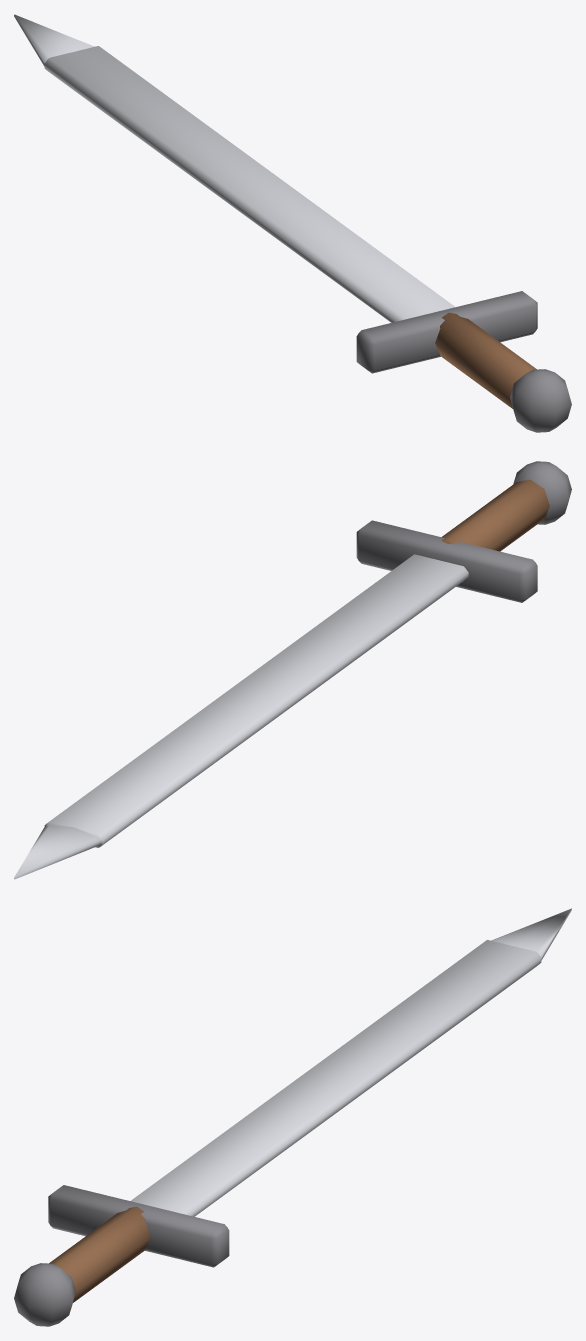
The model's file is weapons_shortsword.glb.
3 renders of one model, top to bottom at view 1: azimuth 30°, elevation 25°; view 2: azimuth 150°, elevation 25°; view 3: azimuth 330°, elevation 25°, orthographic.
Parts seen in each view (by area): view 1: weapons_shortsword; view 2: weapons_shortsword; view 3: weapons_shortsword.
Part boxes in pixels (left/top/right/bottom): weapons_shortsword: left=14, top=14, right=571, bottom=432; weapons_shortsword: left=14, top=461, right=571, bottom=879; weapons_shortsword: left=14, top=908, right=571, bottom=1326.
Size of the model in its own units: 0.11 by 0.036 by 0.608.
